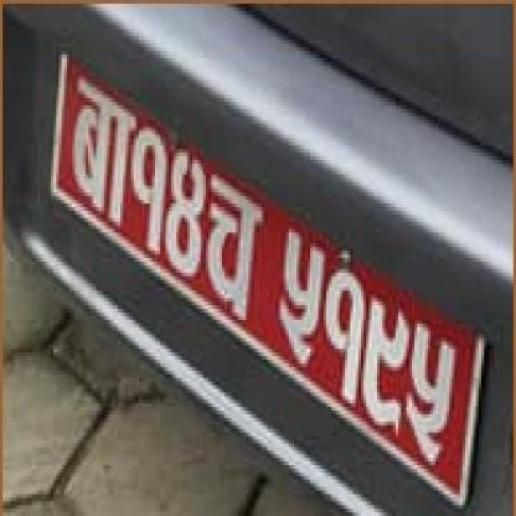1: (321, 266, 370, 411), (129, 124, 166, 258)
4: (166, 142, 206, 281)
5: (404, 316, 458, 465), (276, 226, 327, 367)
9: (363, 294, 407, 437)
ba: (69, 73, 134, 233)
cha: (203, 171, 262, 324)
